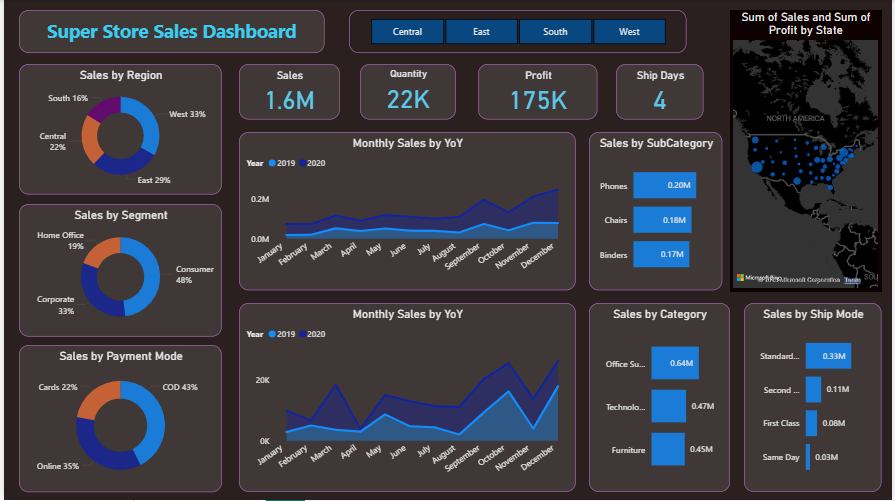

What the dashboard file says about the page in this screenshot:
{"tool":"powerbi","page":{"name":"Duplicate  of Dashboard","canvas":[1280,720],"ordinal":0},"visuals":[{"type":"clusteredBarChart","title":"Sales by Category","fields":{"Category":["SuperStore_Sales_Dataset.Category"],"Y":["Sum(SuperStore_Sales_Dataset.Sales)"]},"box":[843.1,436.9,203.1,272.3],"z":0},{"type":"clusteredBarChart","title":"Sales by SubCategory","fields":{"Category":["SuperStore_Sales_Dataset.Sub-Category"],"Y":["Sum(SuperStore_Sales_Dataset.Sales)"]},"box":[843.1,190.8,192.3,227.7],"z":1000},{"type":"clusteredBarChart","title":"Sales by Ship Mode","fields":{"Category":["SuperStore_Sales_Dataset.Ship Mode"],"Y":["Sum(SuperStore_Sales_Dataset.Sales)"]},"box":[1066.2,436.9,198.5,272.3],"z":2000},{"type":"stackedAreaChart","title":" Monthly Sales by YoY ","fields":{"Y":["Sum(SuperStore_Sales_Dataset.Sales)"],"Category":["SuperStore_Sales_Dataset.Order Date.Variation.Date Hierarchy.Month","SuperStore_Sales_Dataset.Order Date.Variation.Date Hierarchy.Day"],"Series":["SuperStore_Sales_Dataset.Order Date.Variation.Date Hierarchy.Year"]},"box":[338.5,190.8,484.6,227.7],"z":3000},{"type":"stackedAreaChart","title":" Monthly Sales by YoY ","fields":{"Category":["SuperStore_Sales_Dataset.Order Date.Variation.Date Hierarchy.Month","SuperStore_Sales_Dataset.Order Date.Variation.Date Hierarchy.Day"],"Series":["SuperStore_Sales_Dataset.Order Date.Variation.Date Hierarchy.Year"],"Y":["Sum(SuperStore_Sales_Dataset.Profit)"]},"box":[338.5,436.9,484.6,272.3],"z":4000},{"type":"map","fields":{"Category":["SuperStore_Sales_Dataset.State"],"Size":["Sum(SuperStore_Sales_Dataset.Sales)"]},"box":[1046.2,13.8,218.5,404.6],"z":5000},{"type":"donutChart","title":" Sales by Segment","fields":{"Category":["SuperStore_Sales_Dataset.Segment"],"Y":["Sum(SuperStore_Sales_Dataset.Sales)"]},"box":[21.5,293.8,292.3,190.8],"z":6000},{"type":"donutChart","title":" Sales by Payment Mode","fields":{"Category":["SuperStore_Sales_Dataset.Payment Mode"],"Y":["Sum(SuperStore_Sales_Dataset.Sales)"]},"box":[21.5,496.9,292.3,212.3],"z":7000},{"type":"slicer","fields":{"Values":["SuperStore_Sales_Dataset.Region"]},"box":[496.9,13.8,486.2,61.5],"z":8000},{"type":"textbox","box":[21.5,13.8,440,61.5],"z":9000},{"type":"card","title":"Sales","fields":{"Values":["Sum(SuperStore_Sales_Dataset.Sales)"]},"box":[338.5,92.3,144.6,80],"z":10000},{"type":"card","title":"Quantity","fields":{"Values":["Sum(SuperStore_Sales_Dataset.Quantity)"]},"box":[512.3,92.3,138.5,80],"z":11000},{"type":"card","title":"Profit","fields":{"Values":["Sum(SuperStore_Sales_Dataset.Profit)"]},"box":[683.1,92.3,172.3,80],"z":12000},{"type":"card","title":"Ship Days","fields":{"Values":["Avg(SuperStore_Sales_Dataset.AvgDelivery)"]},"box":[881.5,92.3,126.2,80],"z":13000},{"type":"donutChart","title":" Sales by Region","fields":{"Category":["SuperStore_Sales_Dataset.Region"],"Y":["Sum(SuperStore_Sales_Dataset.Sales)"]},"box":[21.5,92.3,292.3,187.7],"z":14000}]}

Visuals, with their boxes in screenshot pixels (x1, y1, x2, y2), scaled from the page's 1280x720 canvas onto the 895x501 screenshot:
"Sales by Category" clusteredBarChart: <box>590,304,732,493</box>
"Sales by SubCategory" clusteredBarChart: <box>590,133,724,291</box>
"Sales by Ship Mode" clusteredBarChart: <box>746,304,884,493</box>
" Monthly Sales by YoY " stackedAreaChart: <box>237,133,576,291</box>
" Monthly Sales by YoY " stackedAreaChart: <box>237,304,576,493</box>
map - SuperStore_Sales_Dataset.State x Sum(SuperStore_Sales_Dataset.Sales): <box>732,10,884,291</box>
" Sales by Segment" donutChart: <box>15,204,219,337</box>
" Sales by Payment Mode" donutChart: <box>15,346,219,493</box>
slicer - SuperStore_Sales_Dataset.Region: <box>347,10,687,52</box>
textbox: <box>15,10,323,52</box>
"Sales" card: <box>237,64,338,120</box>
"Quantity" card: <box>358,64,455,120</box>
"Profit" card: <box>478,64,598,120</box>
"Ship Days" card: <box>616,64,705,120</box>
" Sales by Region" donutChart: <box>15,64,219,195</box>
